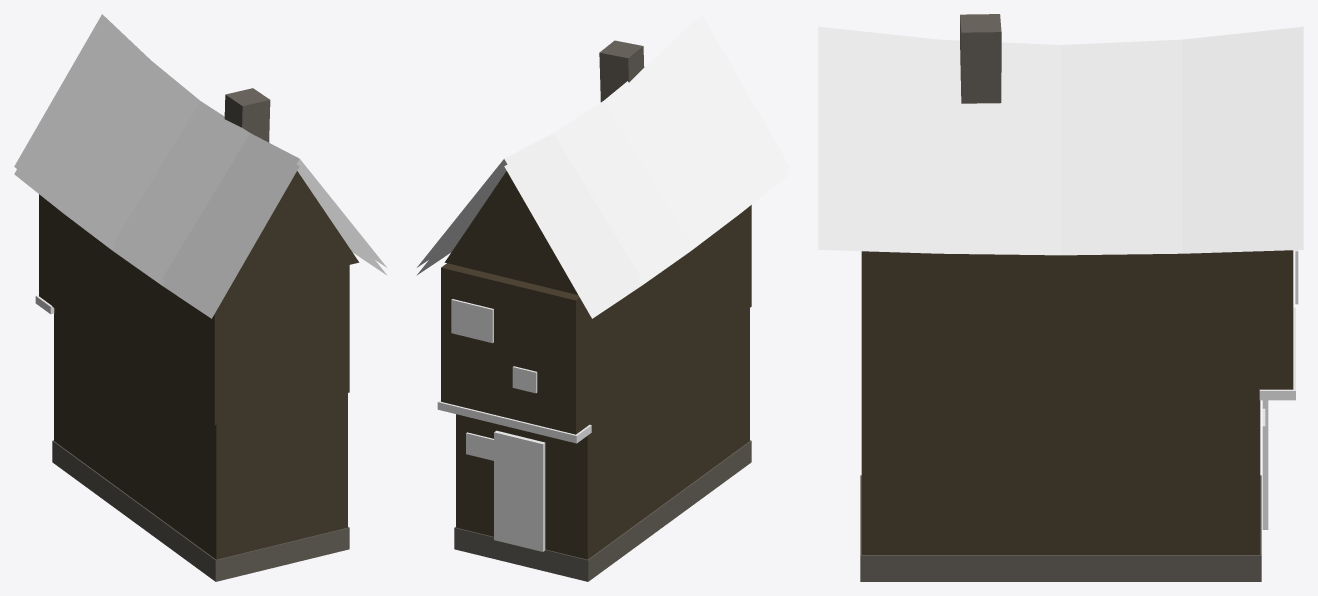
File: house_narrow_poor_a_lod1.glb
The picture shows the model from 3 angles, left to right: view 1: azimuth 30°, elevation 25°; view 2: azimuth 150°, elevation 25°; view 3: azimuth 270°, elevation 25°; orthographic projection. The views are drawn at different scales.
Parts seen in each view (by area): view 1: house_narrow_poor_a_lod1; view 2: house_narrow_poor_a_lod1; view 3: house_narrow_poor_a_lod1.
Part boxes in pixels (<box>): house_narrow_poor_a_lod1: <box>14,14,387,581</box>; house_narrow_poor_a_lod1: <box>416,14,789,581</box>; house_narrow_poor_a_lod1: <box>818,14,1303,581</box>.
Size of the model in its own units: 3.42 by 7.97 by 6.65.
